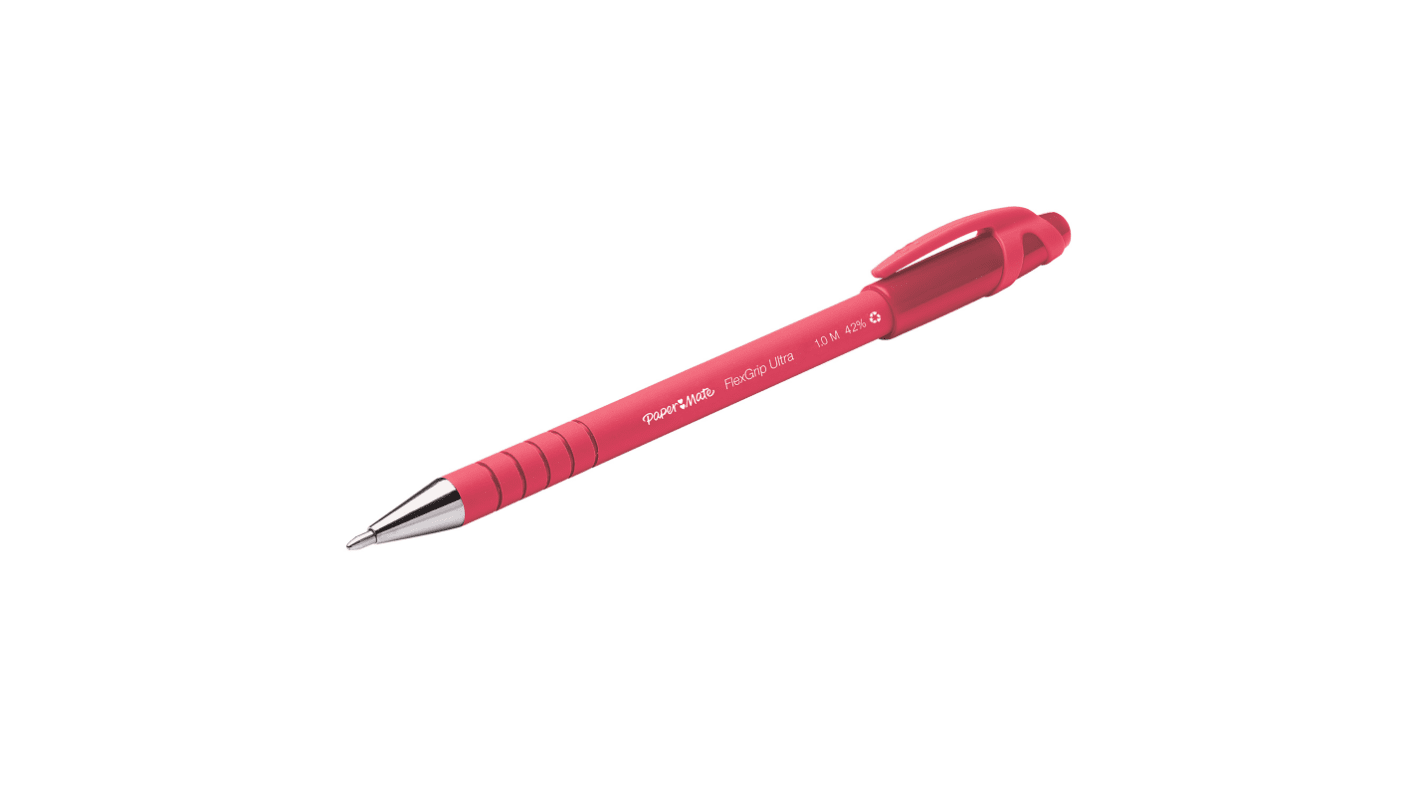pen: (341, 186, 1086, 590)
